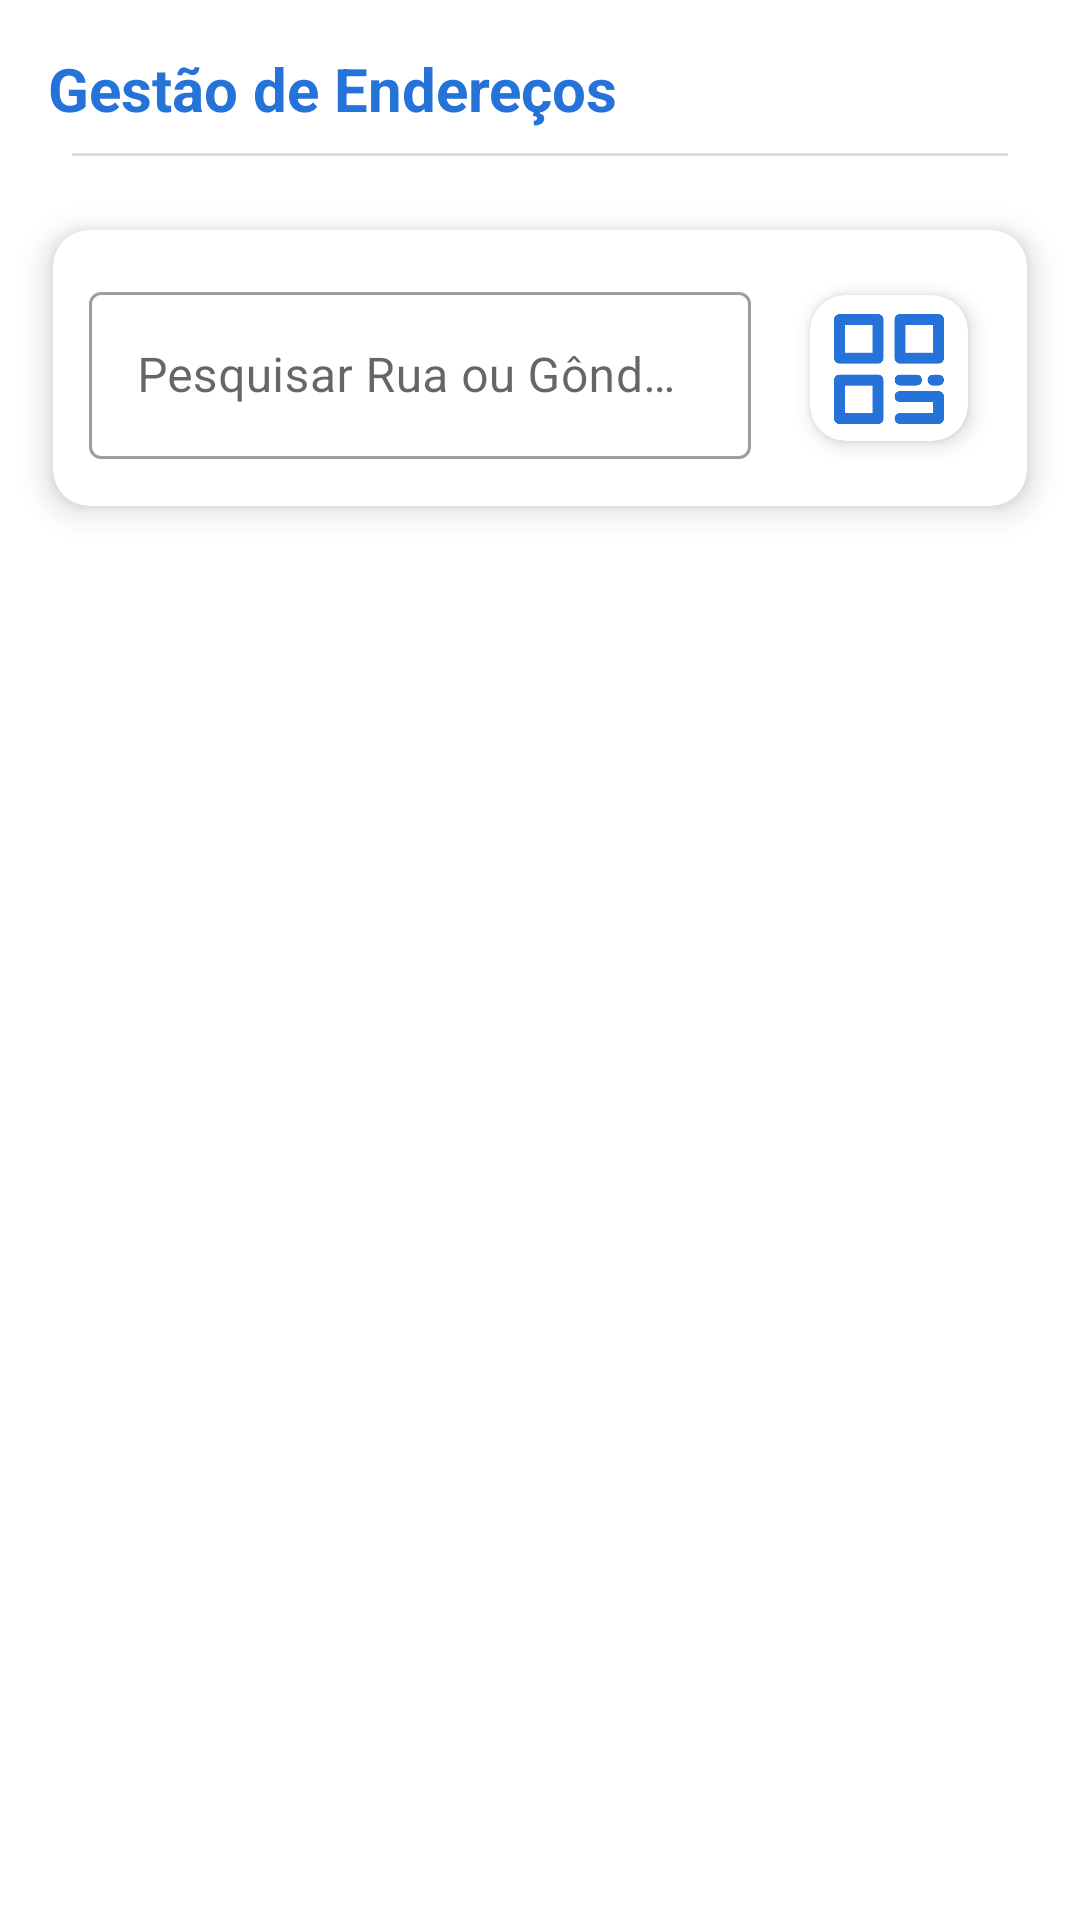

Screen size 1080*1920. Icon name, then its box in pixels as (x1, y1, x2, y2):
Escanear Código de Barras: (817, 303, 968, 441)
